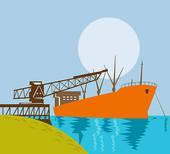boat: (51, 79, 154, 121)
